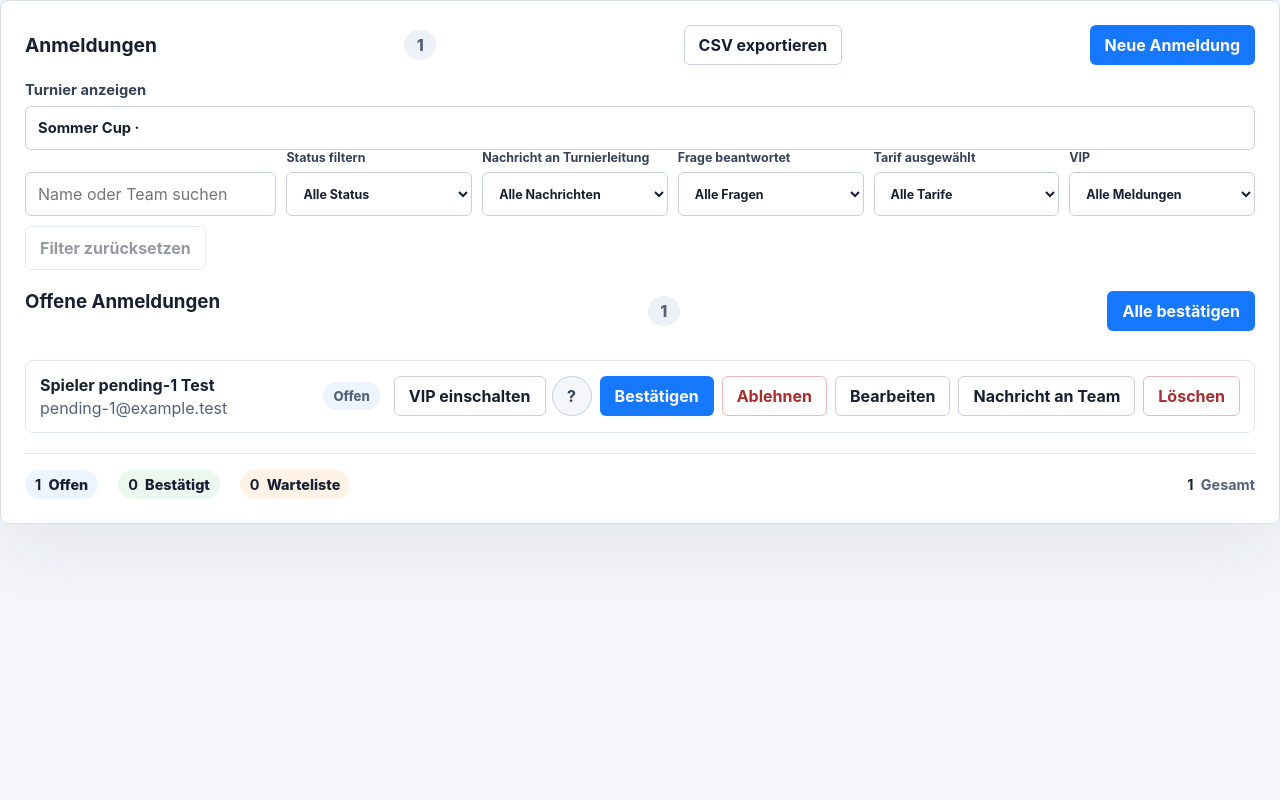
Test: Anmeldungsverwaltung: Freigabe und Storno durch die Turnierleitung › lehnt eine offene Anmeldung mit optionalem Grund ab
The image size is (1280, 800).
Click the button "Ablehnen".
click(774, 396)  # box [722,376,827,416]
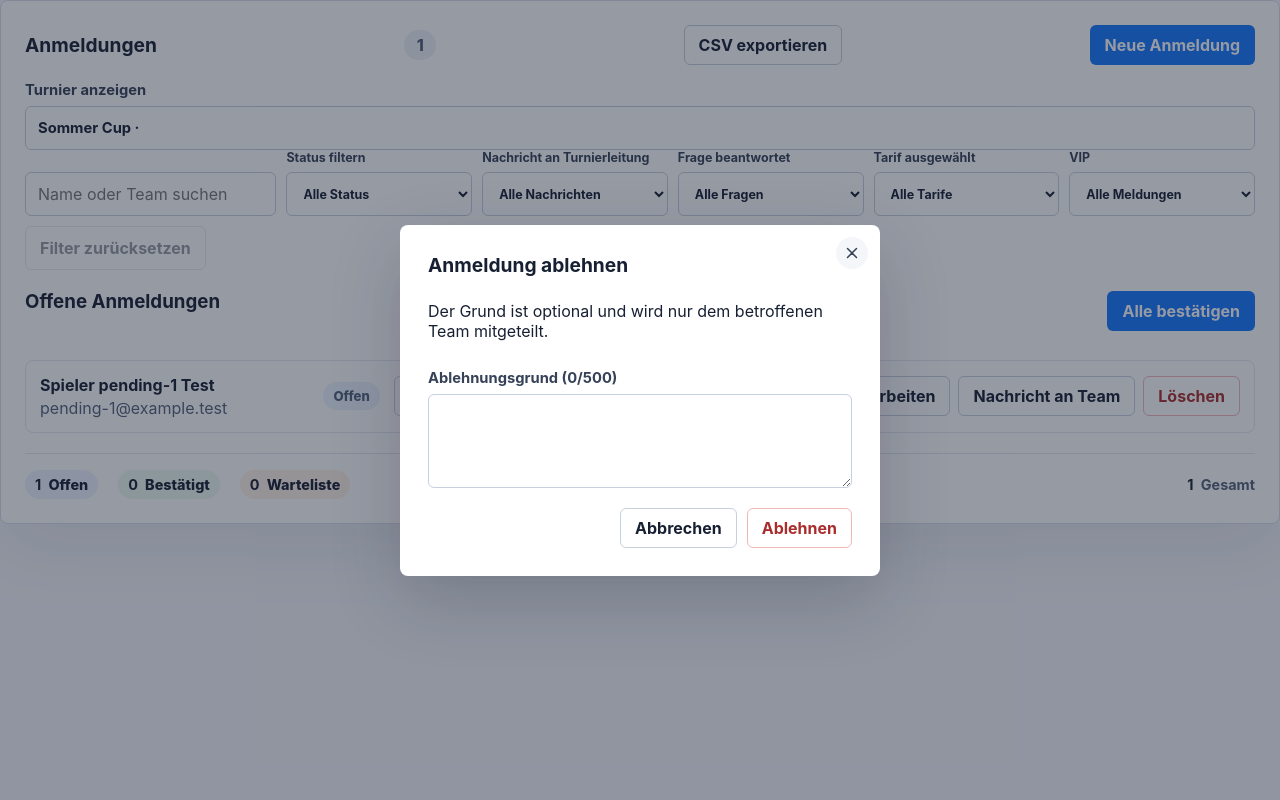
Type "Startfeld voll" into the text box labelled "Ablehnungsgrund (0/500)".
click(640, 440); type("Startfeld voll")  # box [428,394,852,488]
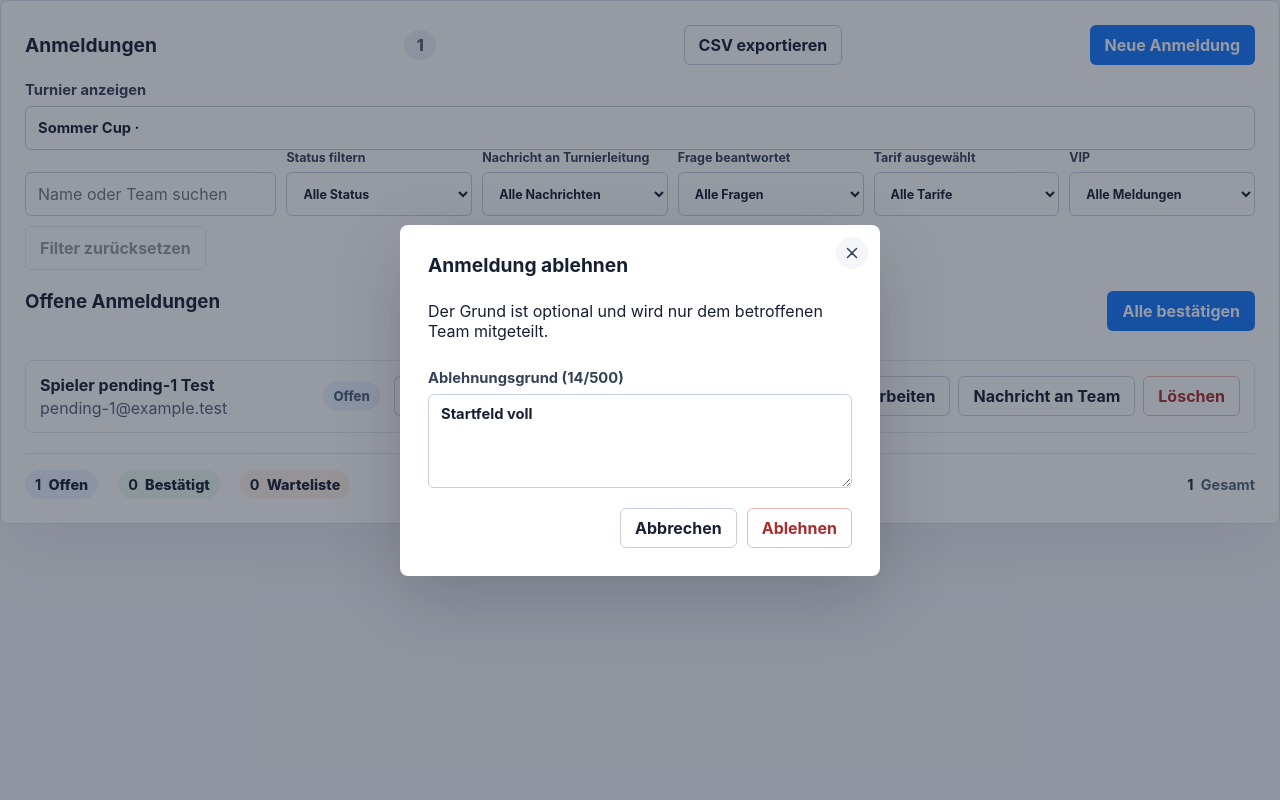
Click the button with class "button-danger" showing "Ablehnen".
click(799, 528)  # box [747,508,852,548]
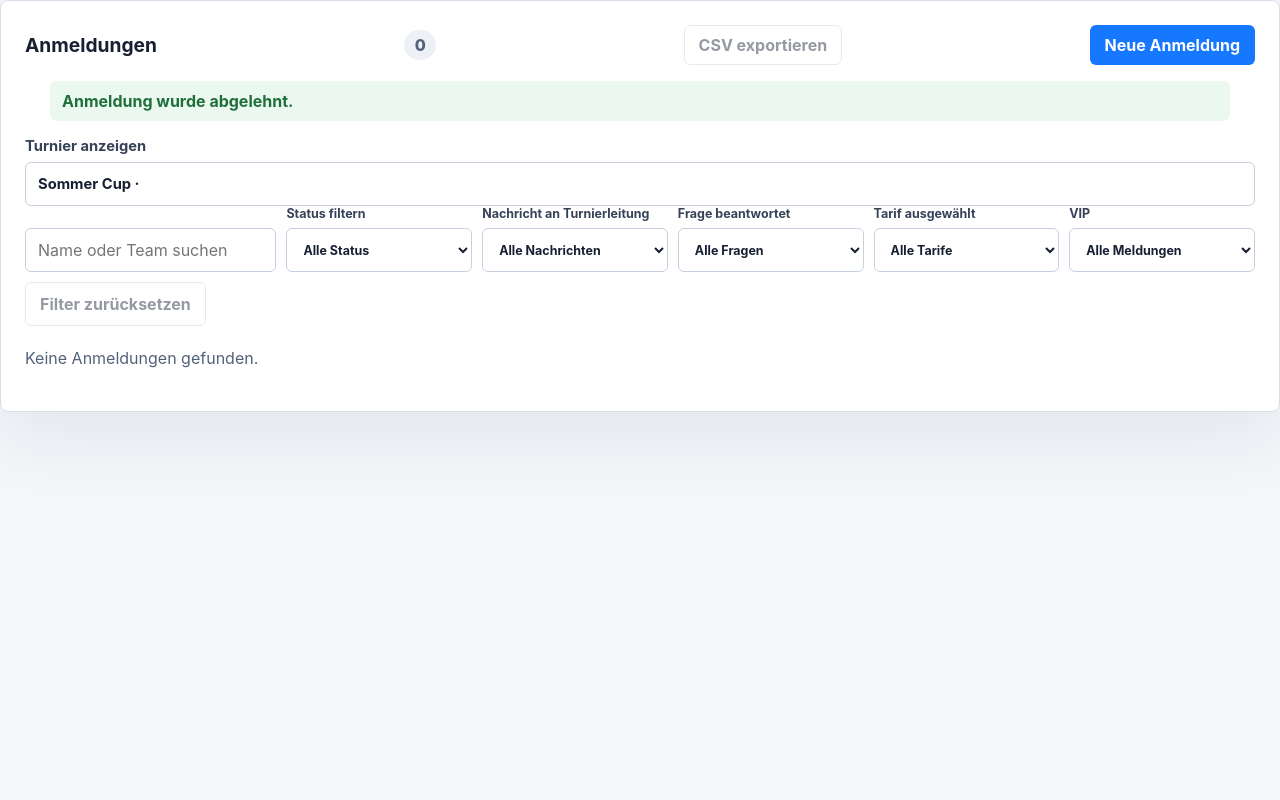
Now the text "Anmeldung wurde abgelehnt." is shown, box [50,81,1230,121]
